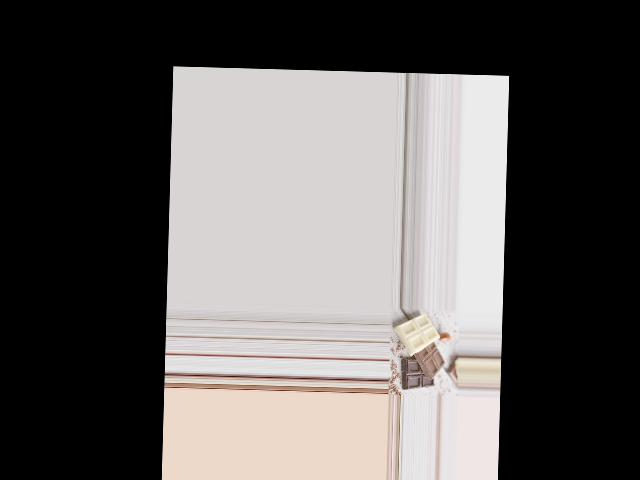chocolate: (396, 313, 446, 394)
